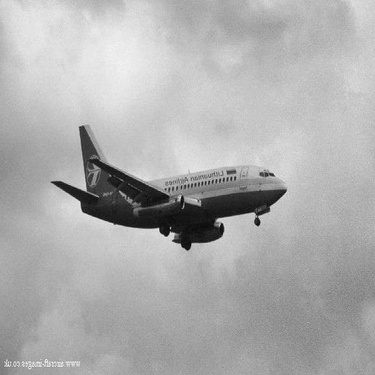airplane: (44, 111, 291, 256)
